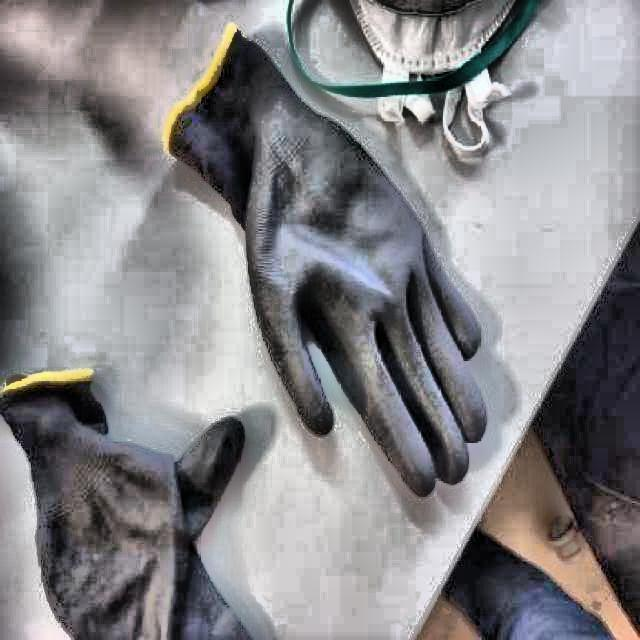gloved: (162, 25, 493, 500), (0, 354, 270, 640)
